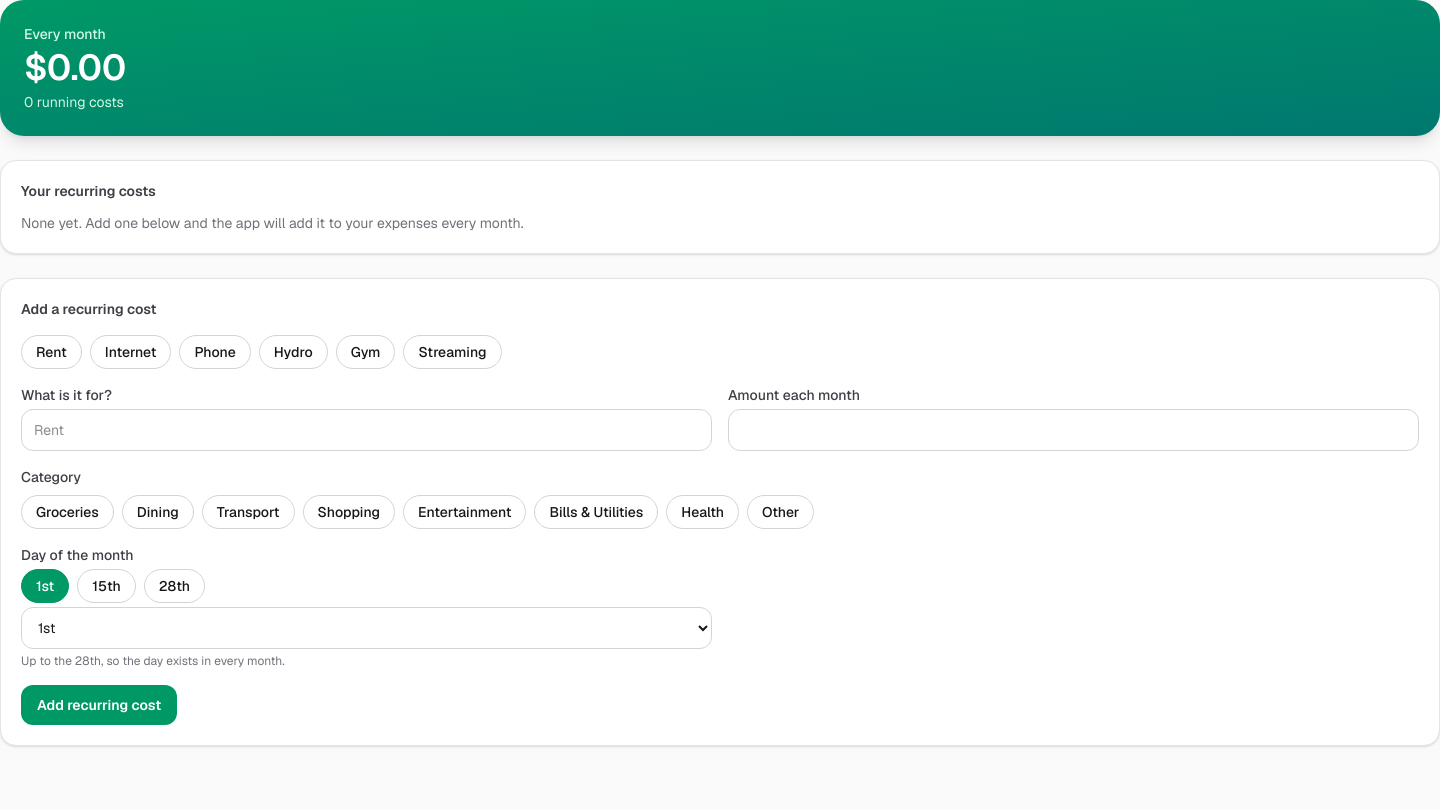
it: a common cost is one tap: it fills in the name and the category
Click the button "Gym" at (366, 352), box top-left (336, 335), bottom-right (396, 369)
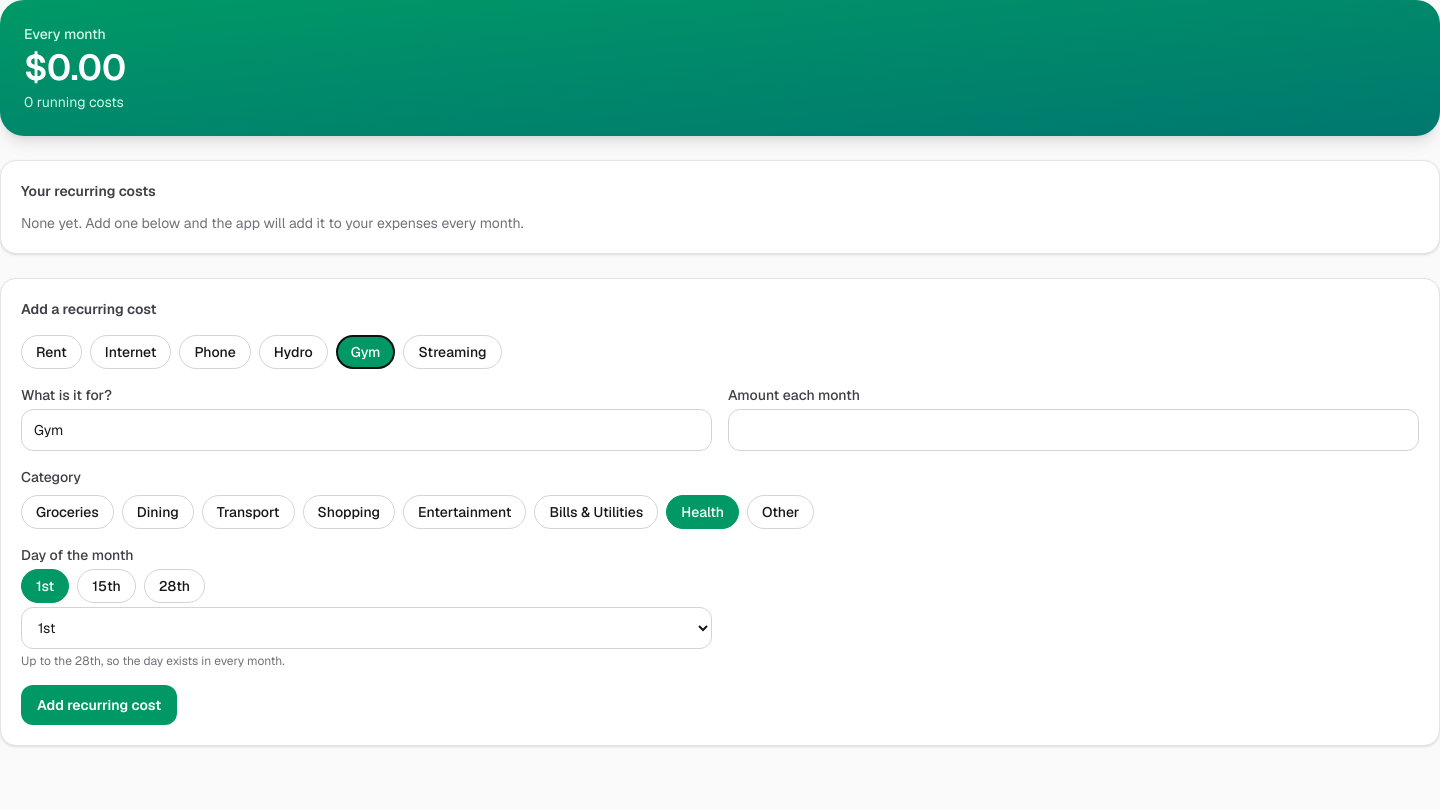
Now the field labelled "What is it for?" holds "Gym", box top-left (21, 409), bottom-right (712, 451)
